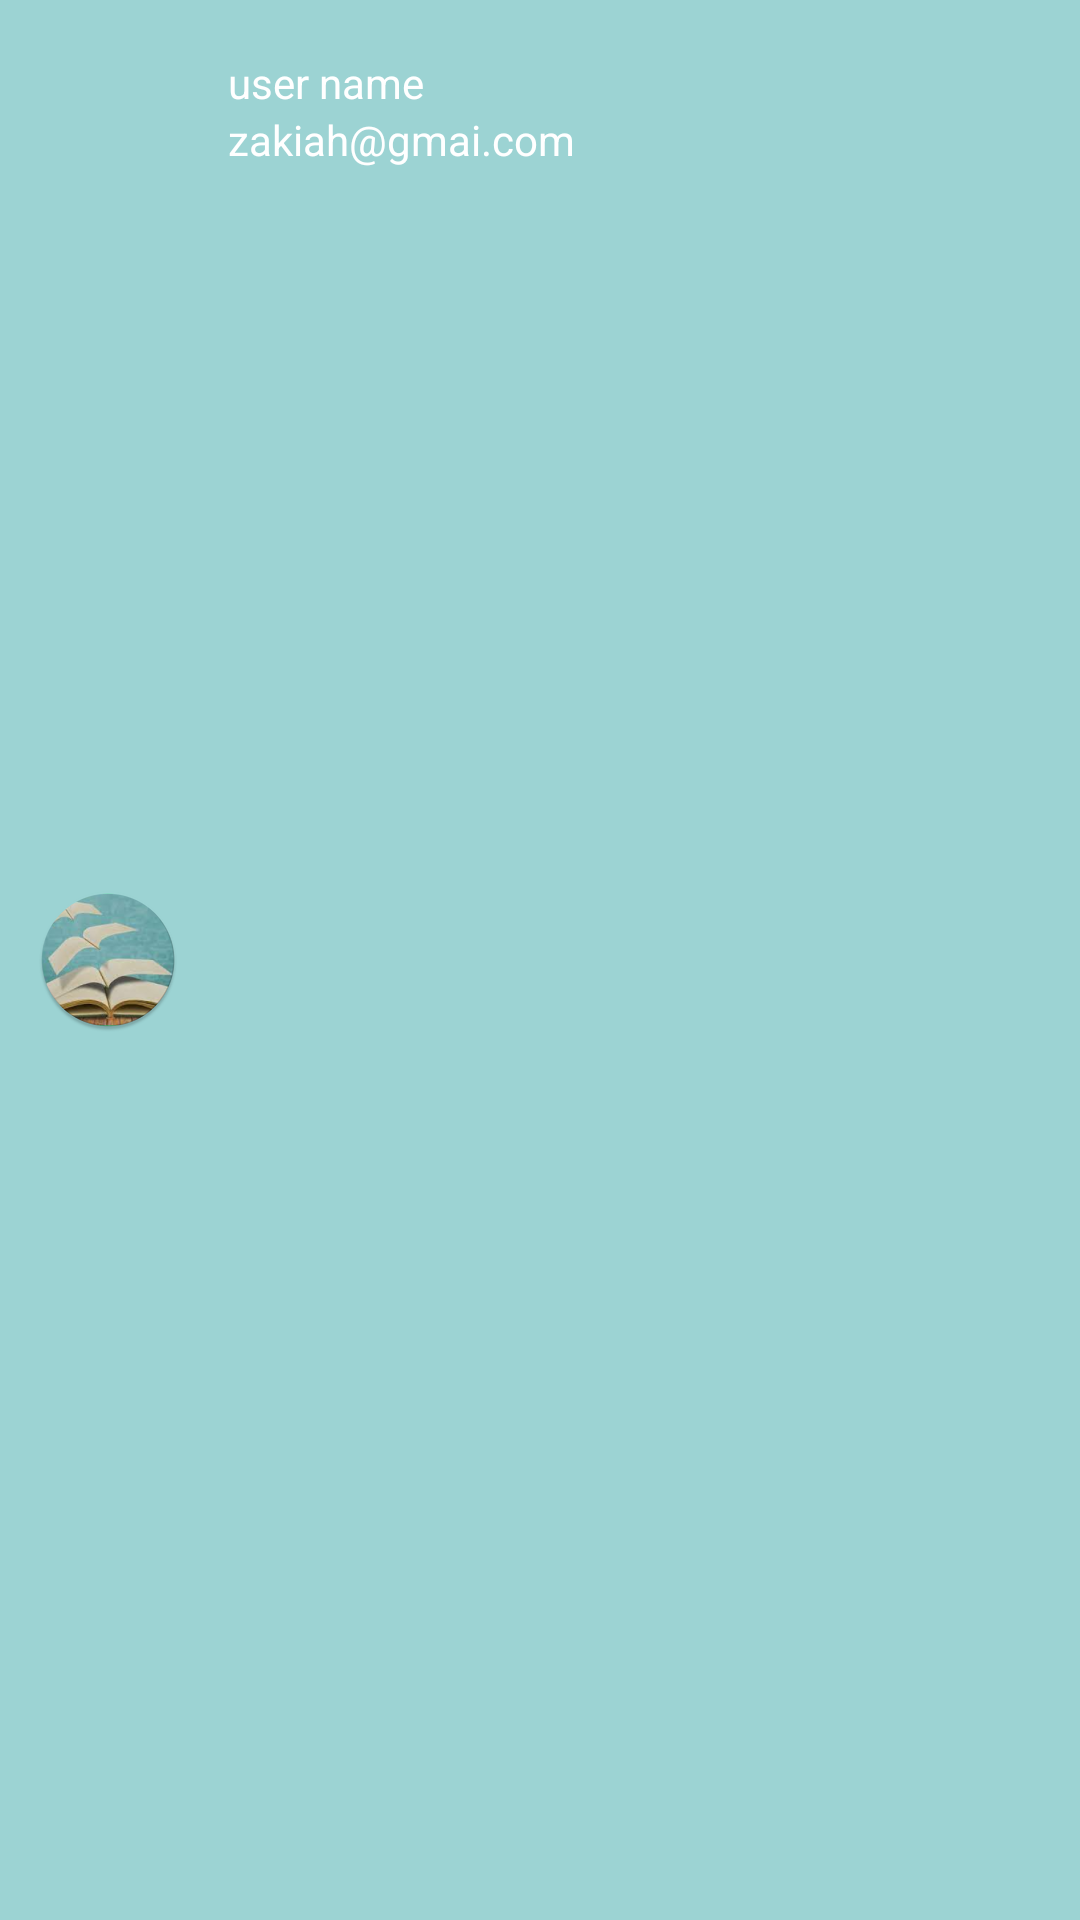

Screen size 1080x1920. Icon name, then its box in pixels as (x1, y1, x2, y2):
story round: (42, 894, 175, 1029)
